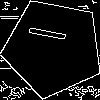I: (28, 23, 77, 46)
